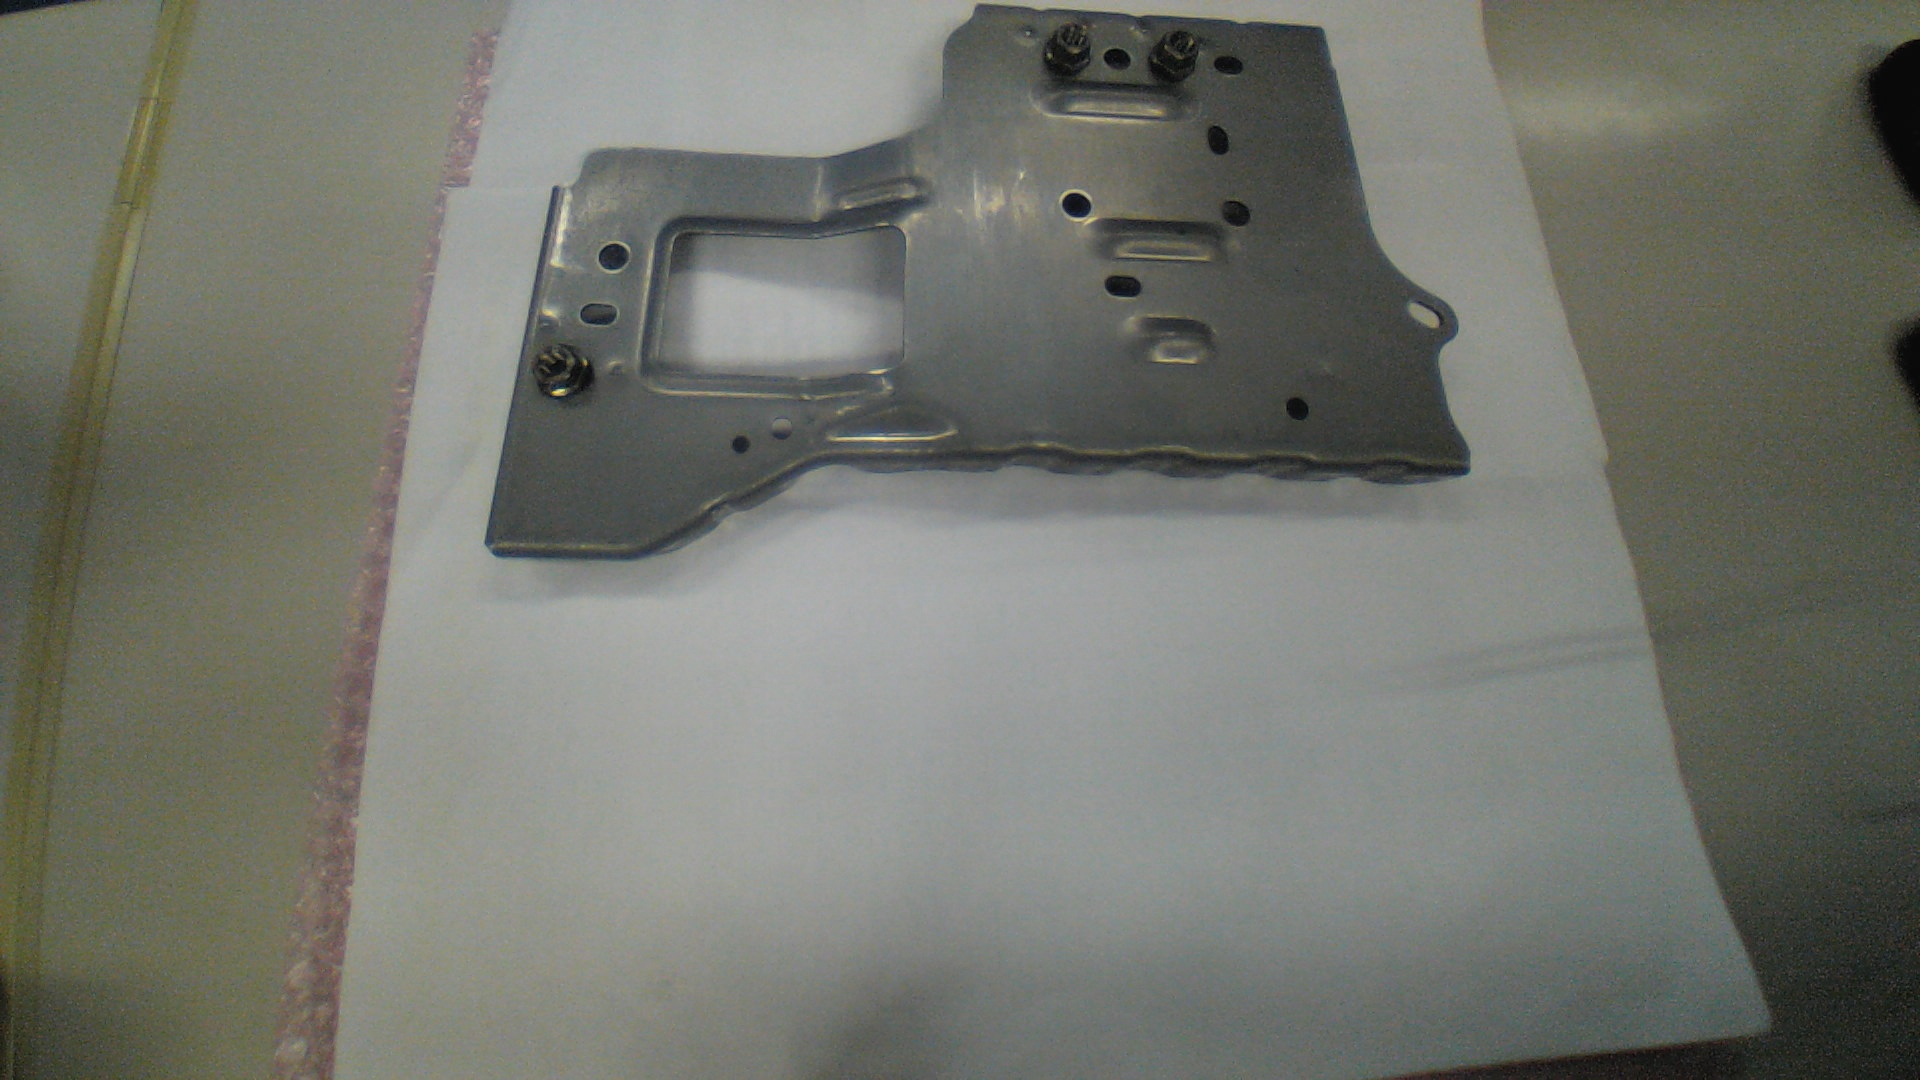dog: (530, 344, 596, 401), (1145, 30, 1200, 87), (1043, 22, 1095, 76)
